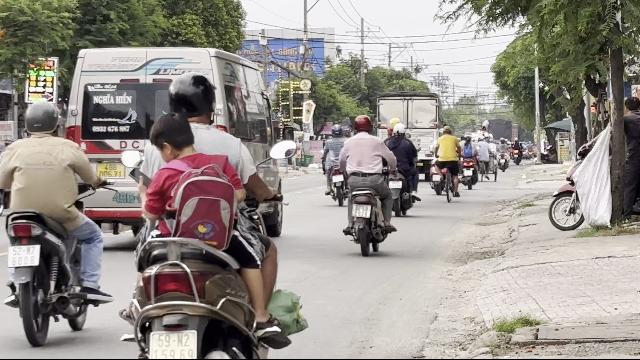helmet: (165, 72, 217, 120), (22, 99, 60, 136), (352, 114, 372, 134)
licenseplate: (150, 330, 196, 358), (9, 246, 39, 266), (352, 204, 372, 218)
motorcyclist: (114, 72, 308, 356), (0, 98, 110, 342), (338, 114, 397, 254)
nohelmet: (148, 112, 196, 162)
